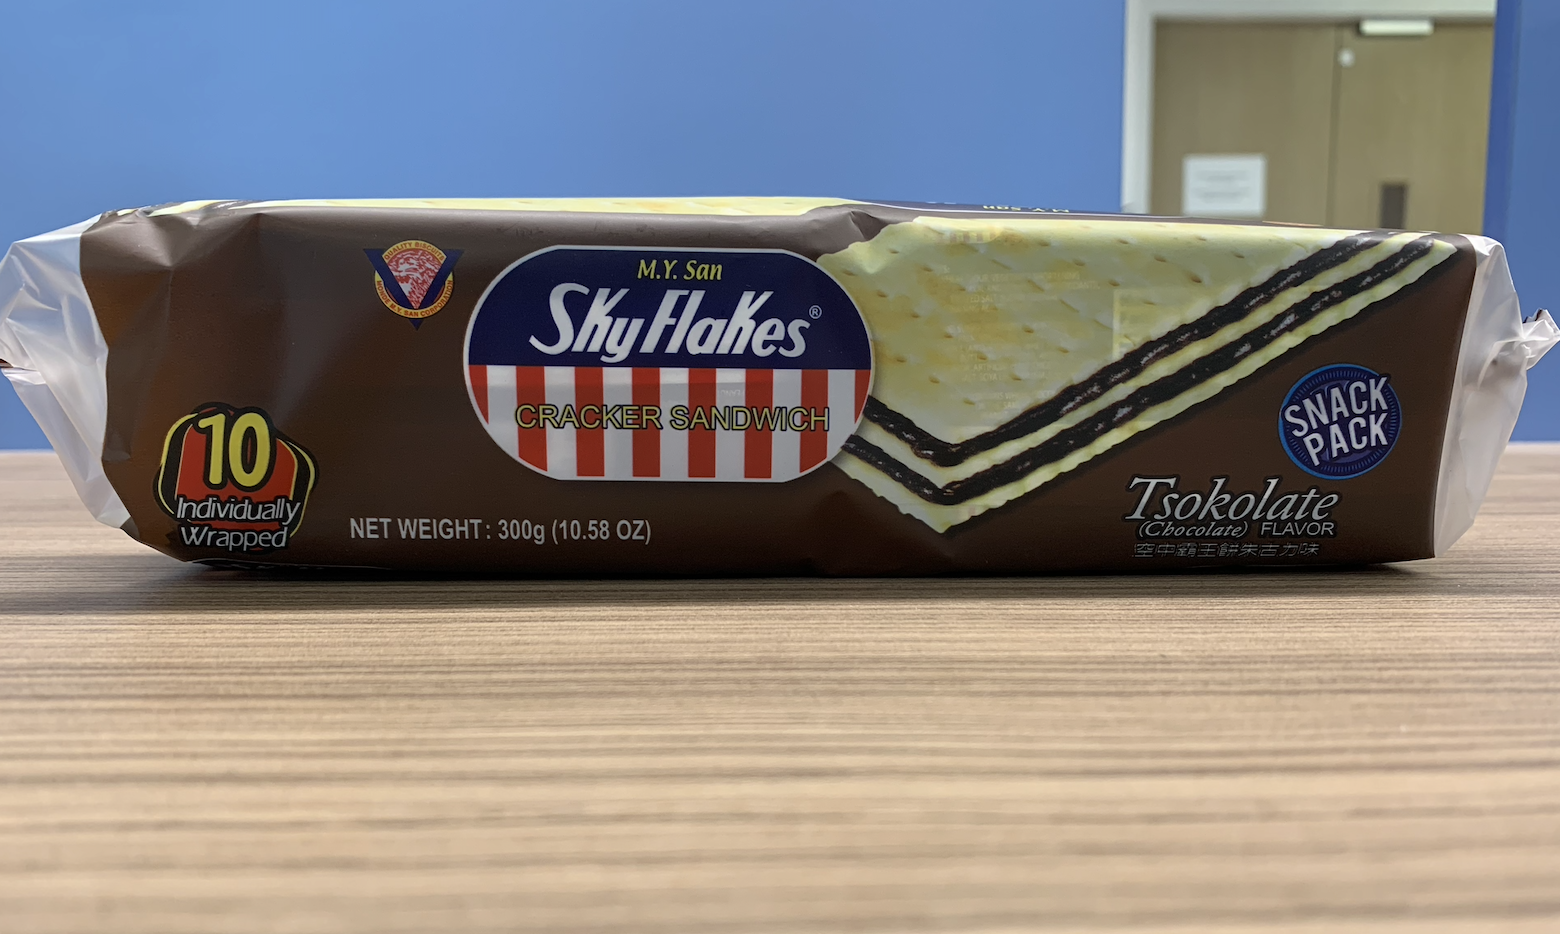crackers_450g: (172, 236, 1405, 552)
